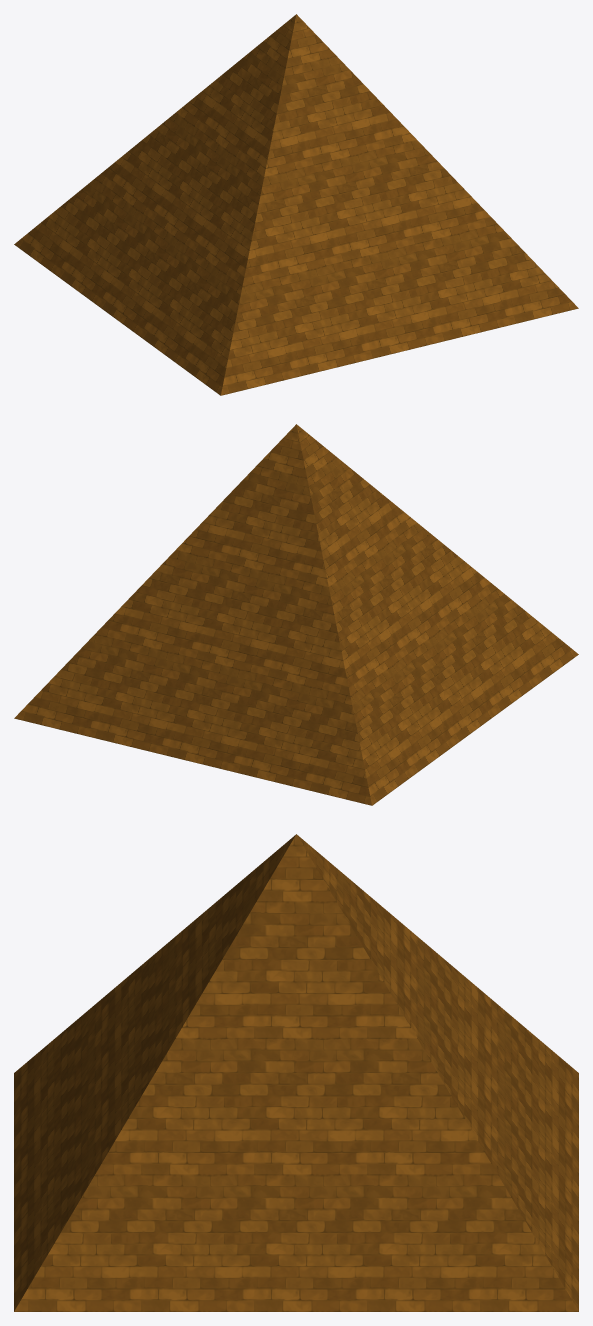
The picture shows the model from 3 angles, top to bottom: view 1: azimuth 30°, elevation 25°; view 2: azimuth 150°, elevation 25°; view 3: azimuth 270°, elevation 25°; orthographic projection. The views are drawn at different scales.
Visible parts, largest first — view 1: mergedBlocks(Clone); view 2: mergedBlocks(Clone); view 3: mergedBlocks(Clone).
Part boxes in pixels (<box>): mergedBlocks(Clone): <box>14,14,578,395</box>; mergedBlocks(Clone): <box>14,424,578,805</box>; mergedBlocks(Clone): <box>14,834,578,1311</box>.
Bounding box in the file's own units: 50 × 35 × 50.
Materials: 1 (1 with a texture image).
